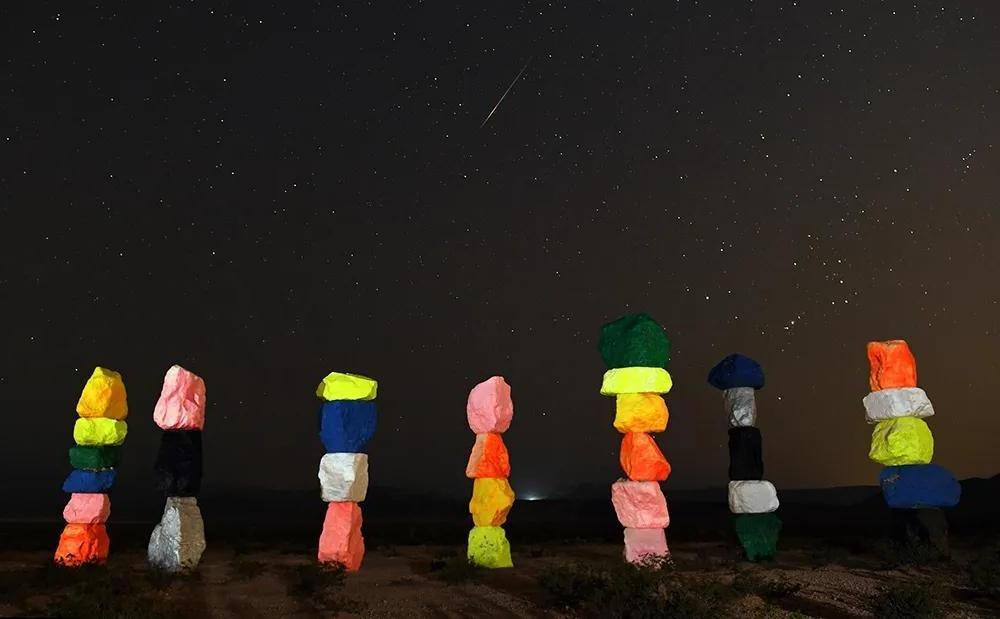meteorite: (456, 58, 543, 120)
